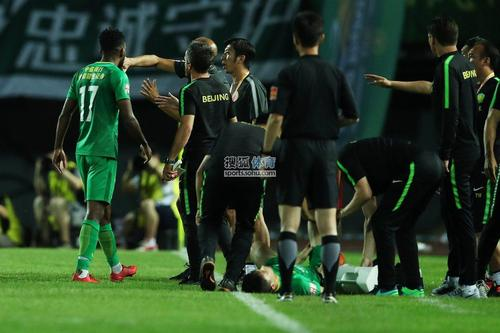10+: (5, 13, 500, 303)
down: (240, 207, 337, 298)
